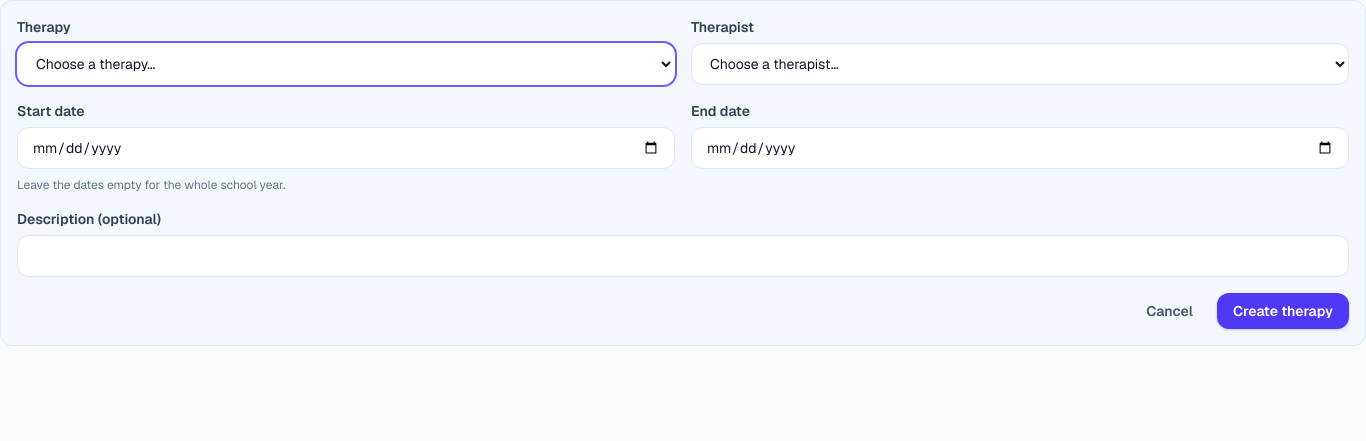
CourseForm › shows the error and stays open when saving fails
Select "Logopedie" in the dropdown labelled "Therapy" at (346, 64), box [17,43,675,85]
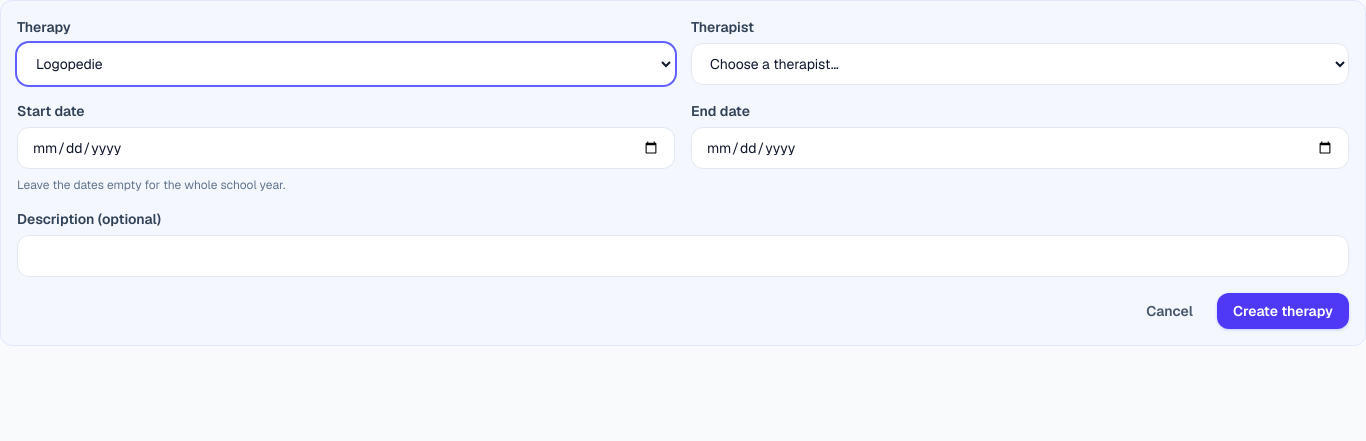
Select "Elena Popescu" in the dropdown labelled "Therapist" at (1020, 64), box [691,43,1349,85]
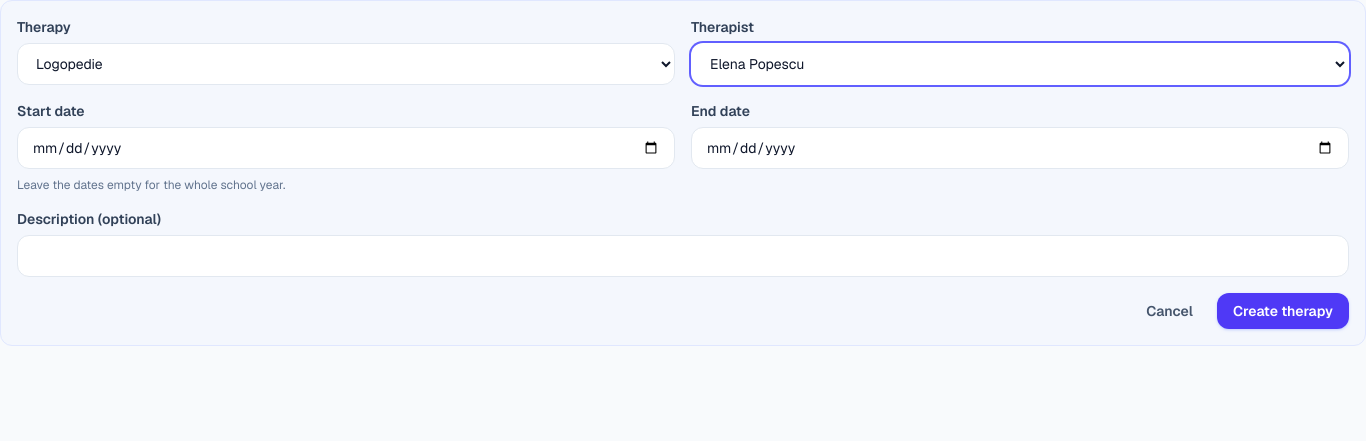
Click the button "Create therapy" at (1283, 311), box [1217,293,1349,329]
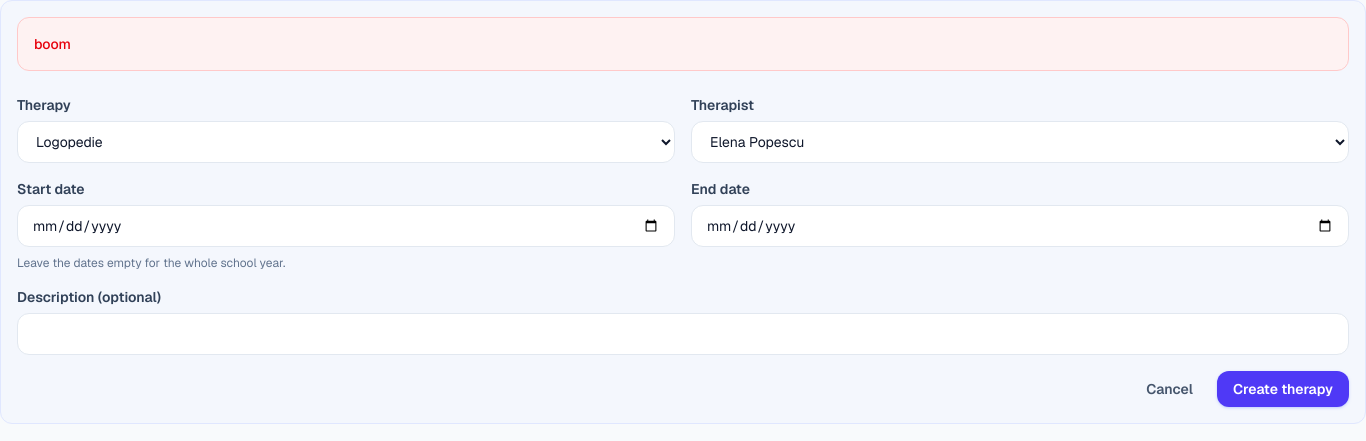
Now the message "boom" is shown, box [17,17,1349,71]
